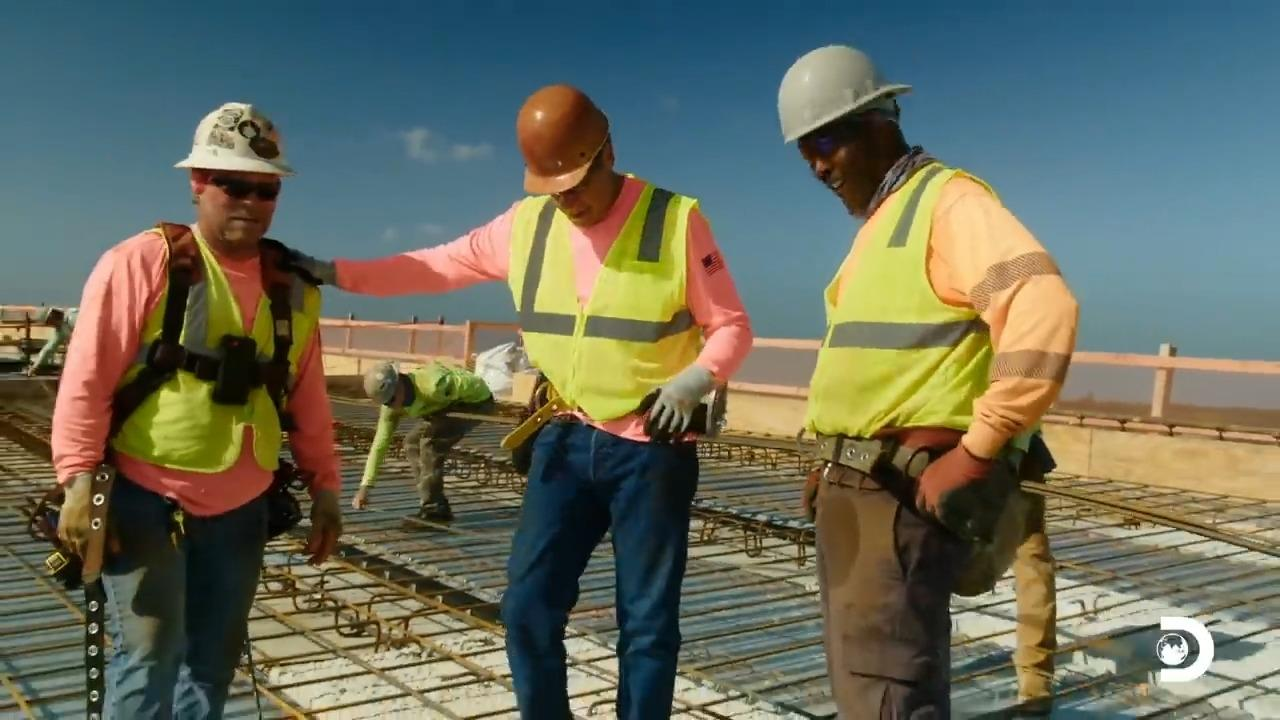Gloves: (42, 483, 109, 563), (916, 444, 977, 507), (644, 373, 700, 430), (306, 497, 347, 570)
Helmet: (776, 43, 912, 145), (515, 83, 610, 196), (172, 101, 295, 176), (362, 359, 399, 406)
Person: (263, 83, 753, 719), (776, 43, 1079, 719), (50, 101, 345, 718), (352, 358, 495, 524)
Safety Vest: (507, 201, 694, 413), (130, 255, 306, 470), (833, 237, 995, 439), (412, 370, 487, 422)
